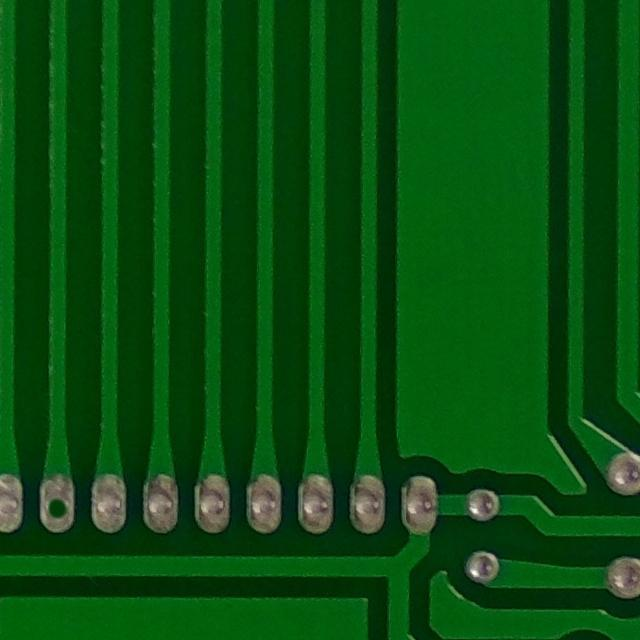missing_hole: (29, 481, 84, 539)
